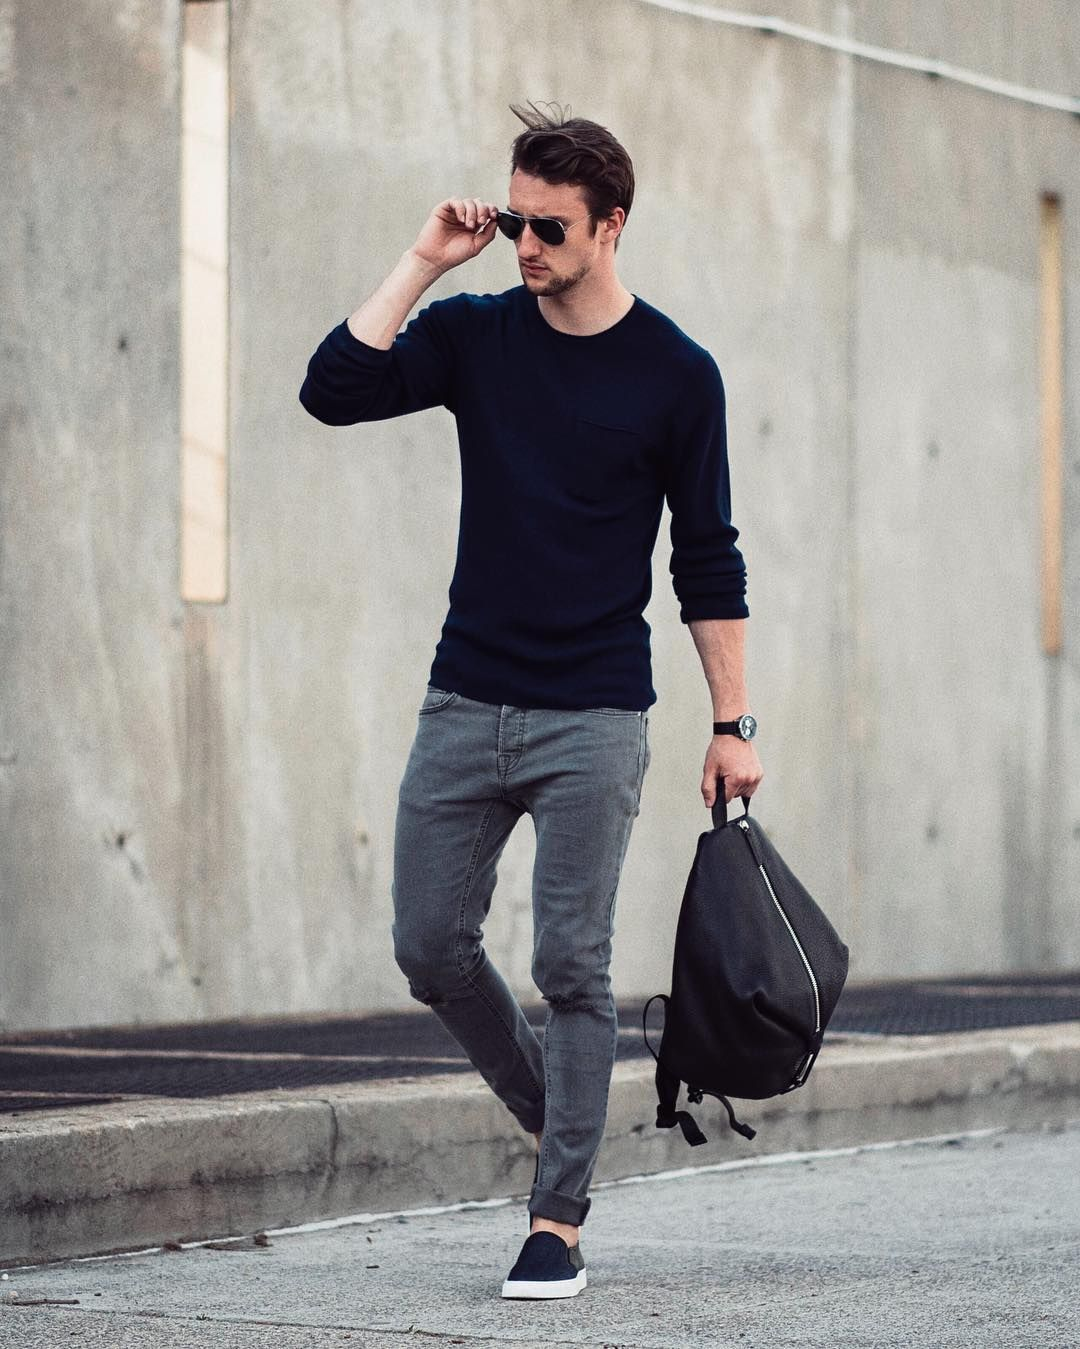NOTSAFE: (438, 102, 670, 723)
